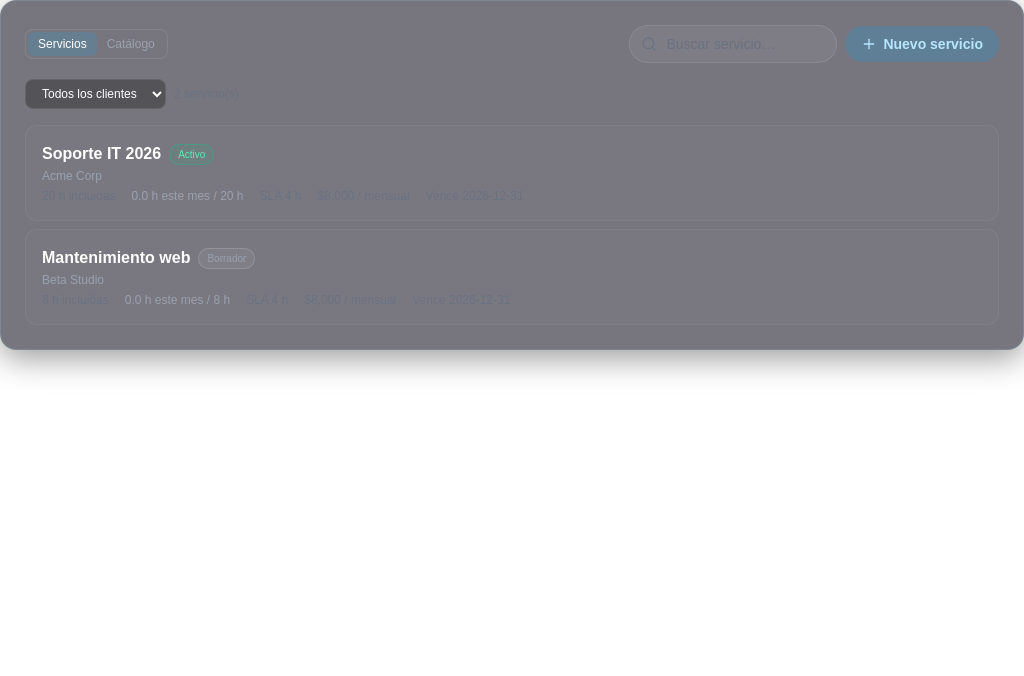
Test: ContractsSection › opens the new-service form with a 'tipo de servicio' picker for the catalog
Click the button "Nuevo servicio": (922, 44) [845,26,999,62]
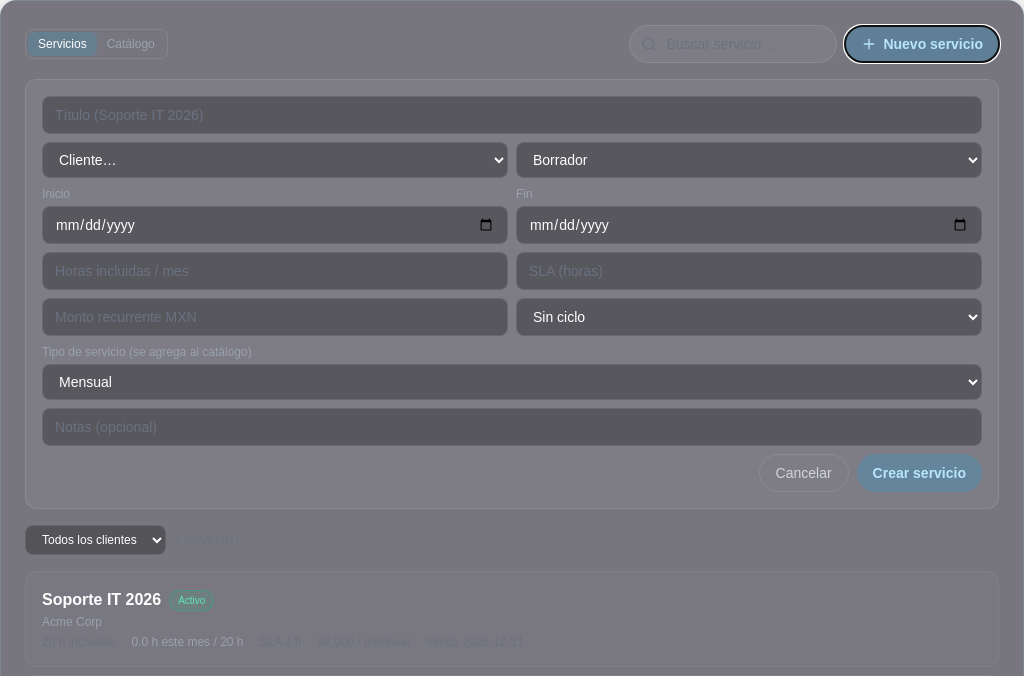
Expected: the field with placeholder "Título (Soporte IT 2026)" is shown, [42,96,982,134]
Expected: the dropdown labelled "Tipo de servicio (se agrega al catálogo)" shows "Mensual", [42,364,982,400]
